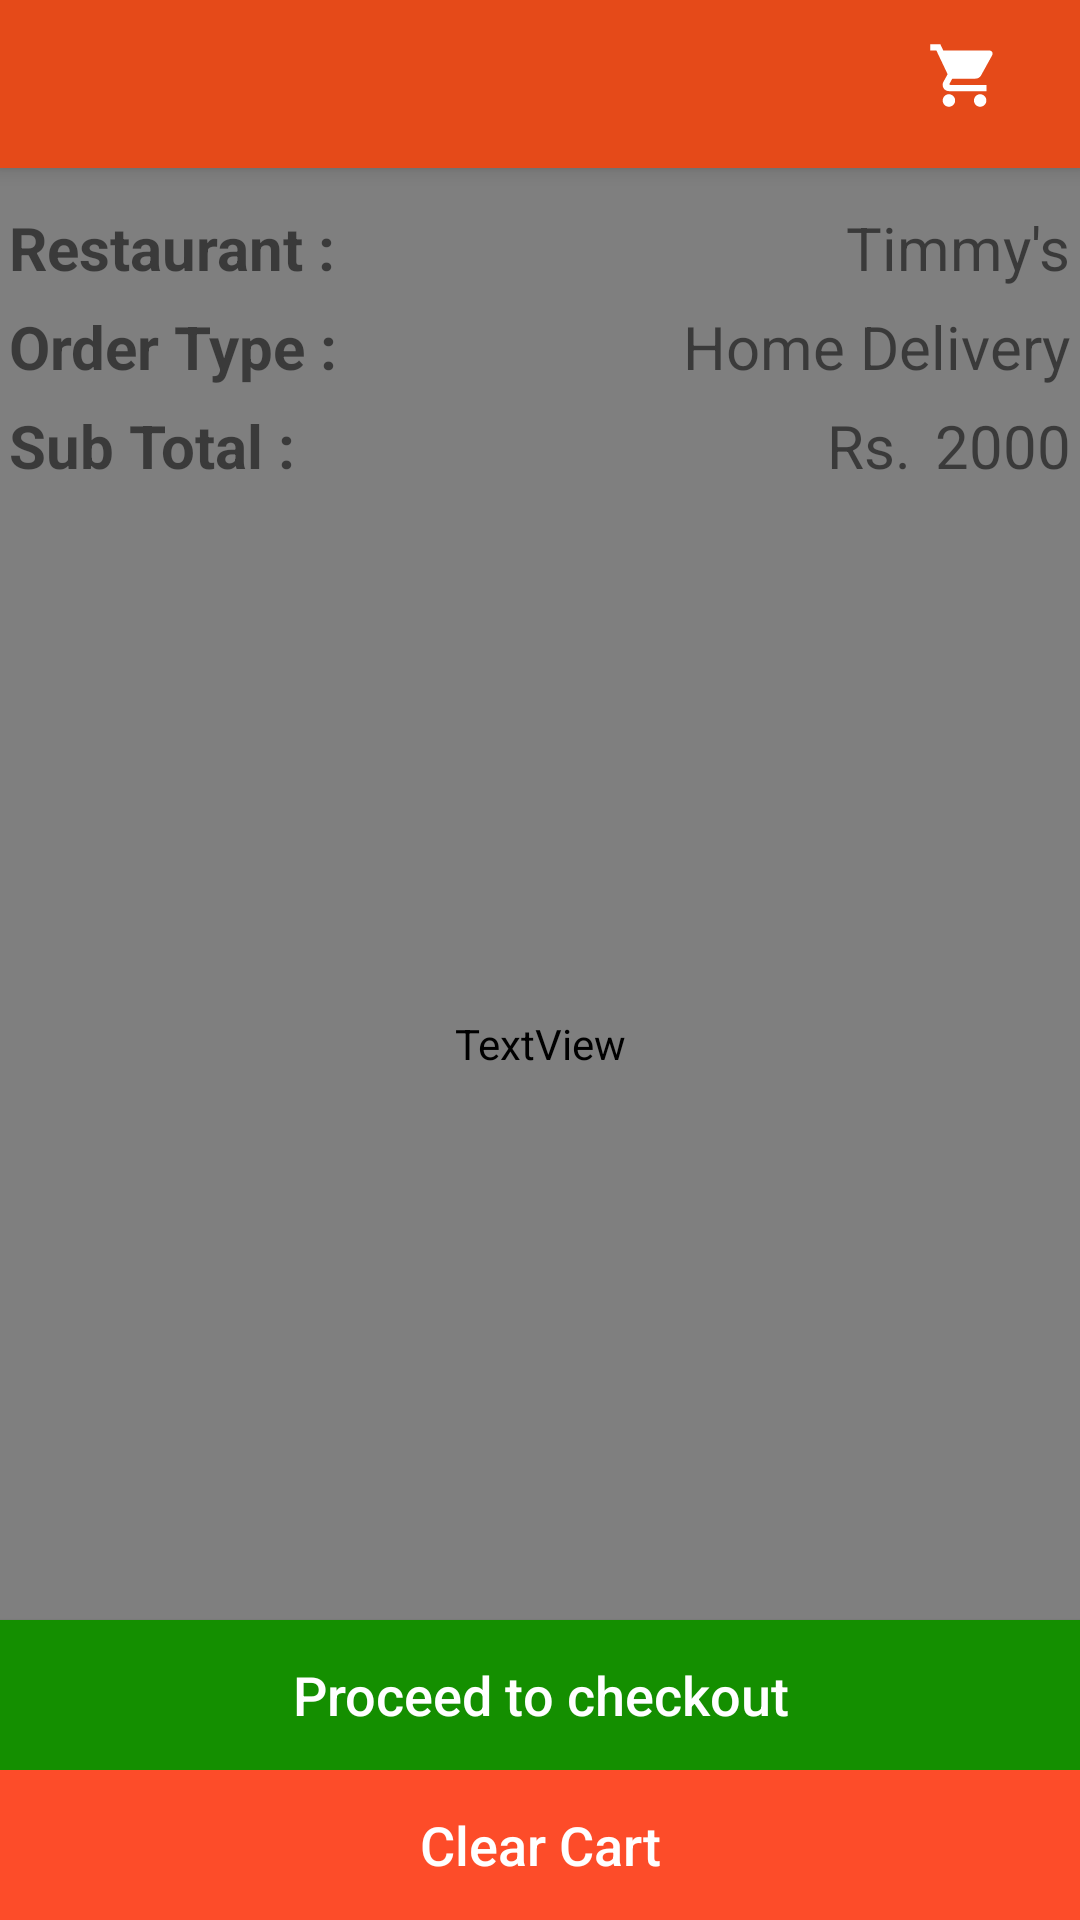

Point at icon controls on the screen. Image size 1080×1920, points as point (x, y).
shopping cart: point (961, 75)
